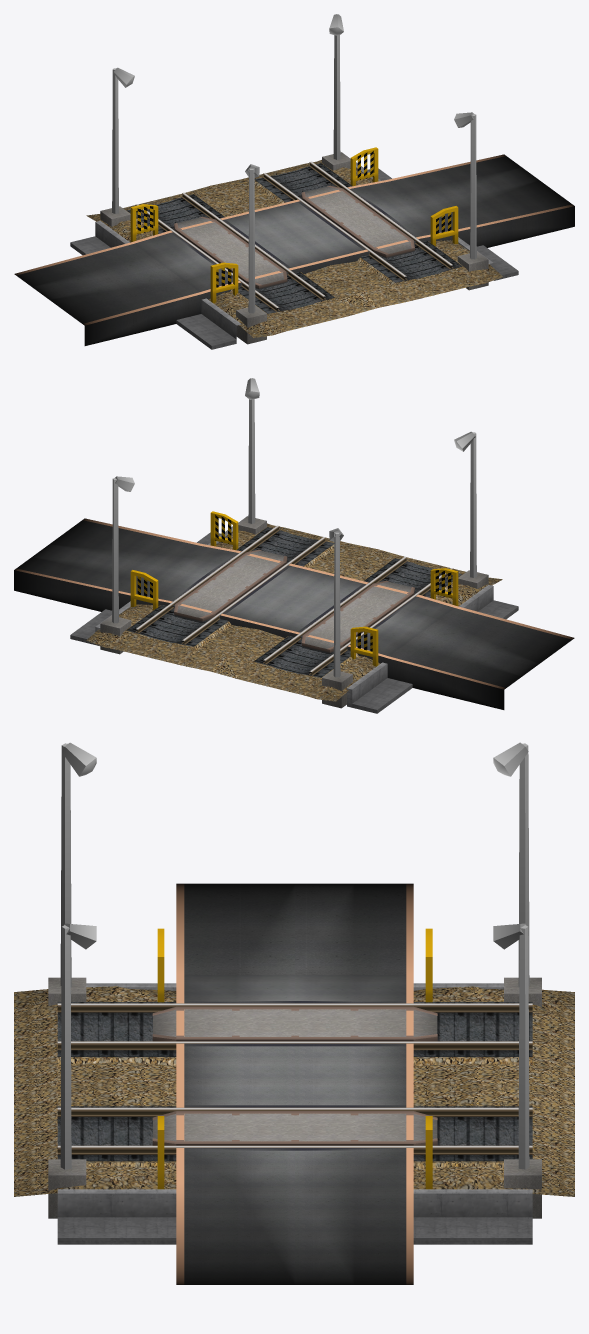
Rendered from HT_HUMUKIRI_25S.glb.
3 views of the same model, one above another, from view 1: azimuth 30°, elevation 25°; view 2: azimuth 150°, elevation 25°; view 3: azimuth 270°, elevation 25° (orthographic). The views are drawn at different scales.
Parts seen in each view (by area): view 1: obj1, bone8, bone0; view 2: obj1, bone0, bone8; view 3: obj1, bone0, bone8.
Boxes of the visible parts, <box> form: obj1: <box>14,154,574,349</box>; bone8: <box>210,112,488,344</box>; bone0: <box>100,14,378,242</box>; obj1: <box>14,518,574,713</box>; bone0: <box>100,476,378,708</box>; bone8: <box>210,378,488,606</box>; obj1: <box>14,883,574,1284</box>; bone0: <box>425,742,541,1218</box>; bone8: <box>48,742,164,1218</box>.
Bounding box in the file's own units: 50 × 16.65 × 29.53.
16 materials, 13 textured.
